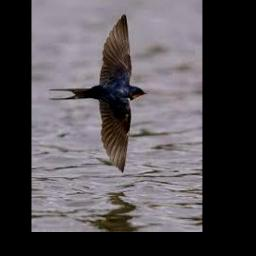Swallow: (47, 14, 146, 173)
